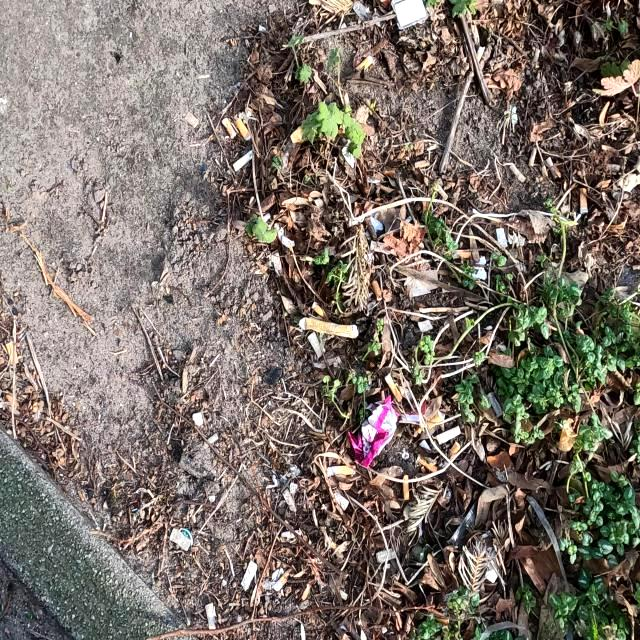Paper: (390, 0, 429, 30)
Plastic: (345, 394, 399, 470)
